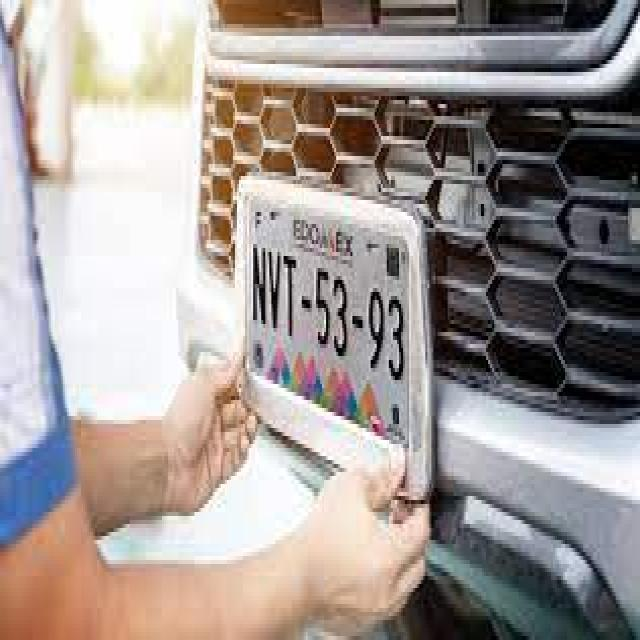placa: (240, 243, 413, 384)
